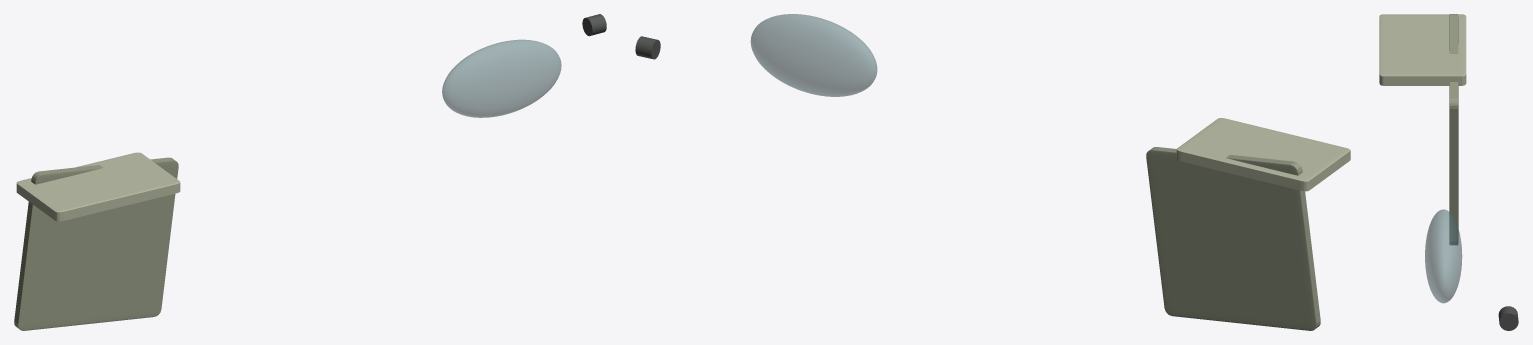
File: v-u26-vanguard-bomber-lod2.glb
The picture shows the model from 3 angles, left to right: view 1: azimuth 30°, elevation 25°; view 2: azimuth 150°, elevation 25°; view 3: azimuth 270°, elevation 25°; orthographic projection. The views are drawn at different scales.
Visible parts, largest first — view 1: combat_tailplane_-1, combat_canopy, combat_fin_0, combat_gun_muzzle_0; view 2: combat_tailplane_-1, combat_canopy, combat_fin_0; view 3: combat_fin_0, combat_canopy, combat_tailplane_-1, combat_gun_muzzle_0.
Boxes of the visible parts, box(x1,y1,x2,y2) form: combat_tailplane_-1: box(14, 157, 178, 330); combat_canopy: box(442, 39, 561, 117); combat_fin_0: box(16, 152, 180, 221); combat_gun_muzzle_0: box(582, 14, 606, 36); combat_tailplane_-1: box(1146, 147, 1320, 330); combat_canopy: box(750, 14, 877, 96); combat_fin_0: box(1176, 118, 1350, 191); combat_fin_0: box(1379, 14, 1466, 85); combat_canopy: box(1425, 209, 1462, 303); combat_tailplane_-1: box(1449, 14, 1458, 244); combat_gun_muzzle_0: box(1498, 306, 1518, 330).
Size of what is drawn, in the model's own units: 16.25 by 4.87 by 3.13.
